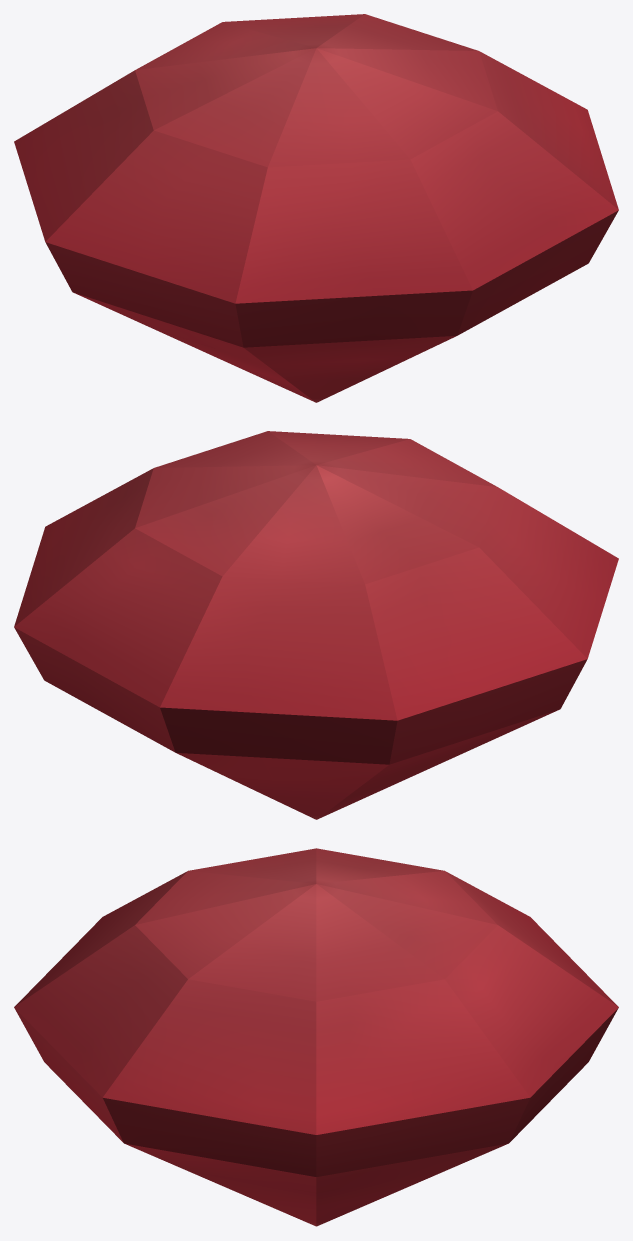
The model's file is gem_ruby.obj.
The picture shows the model from 3 angles, top to bottom: view 1: azimuth 30°, elevation 25°; view 2: azimuth 150°, elevation 25°; view 3: azimuth 270°, elevation 25°; orthographic projection. The views are drawn at different scales.
Parts seen in each view (by area): view 1: gem_ruby; view 2: gem_ruby; view 3: gem_ruby.
Part boxes in pixels (x1=…): gem_ruby: x1=14, y1=14, x2=618, y2=402; gem_ruby: x1=14, y1=431, x2=618, y2=819; gem_ruby: x1=14, y1=848, x2=618, y2=1226.
Size of the model in its own units: 0.064 by 0.04 by 0.064.
Materials: 1 (1 with a texture image).
